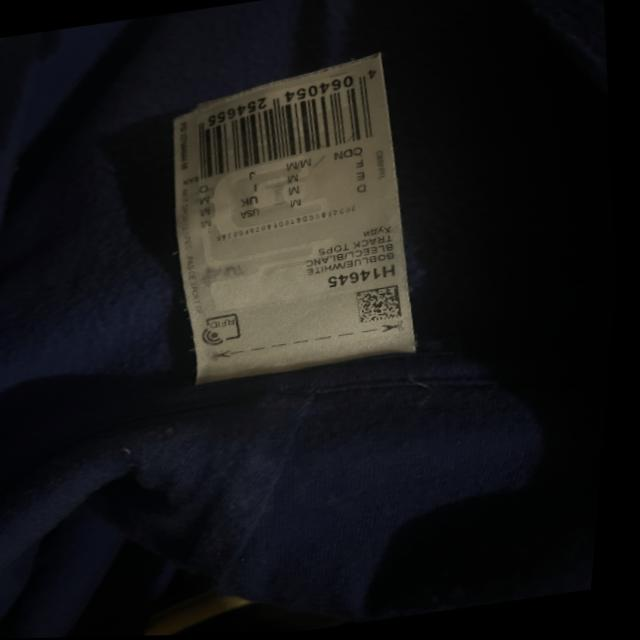datamatrix: (357, 286, 410, 326)
